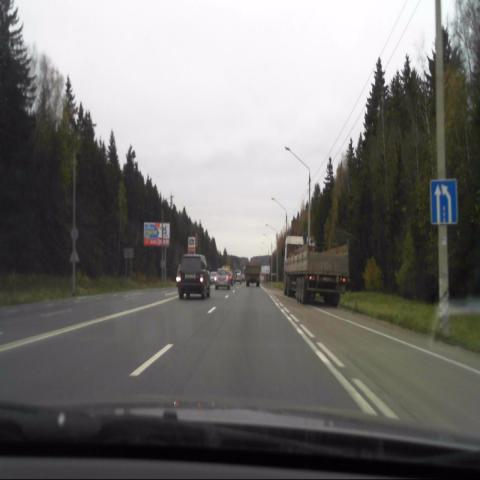5_15_5: (430, 179, 457, 224)
